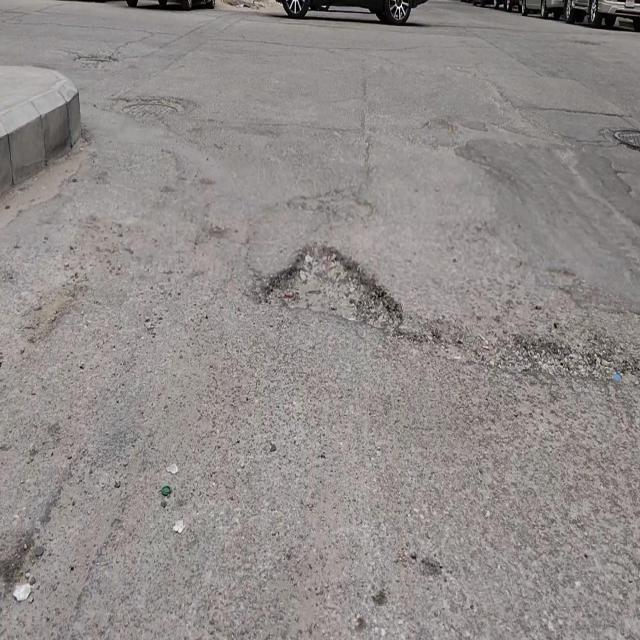Potholes: (268, 236, 406, 334)
